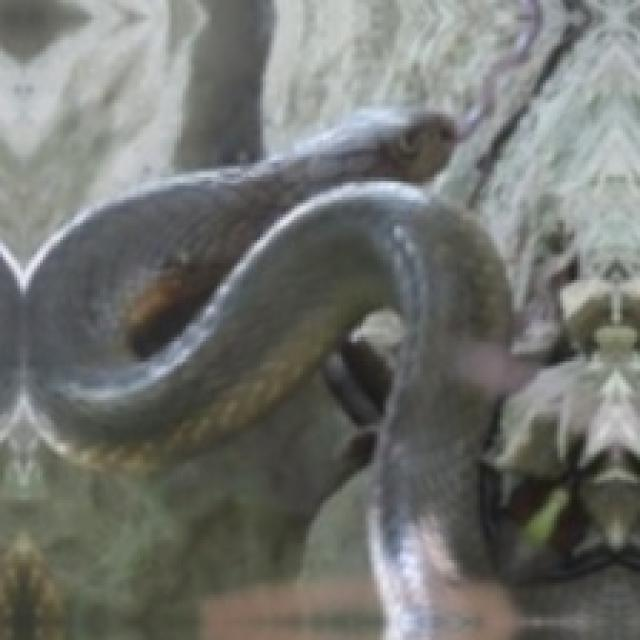king cobra: (0, 0, 637, 360), (0, 377, 380, 637), (514, 566, 637, 637)
